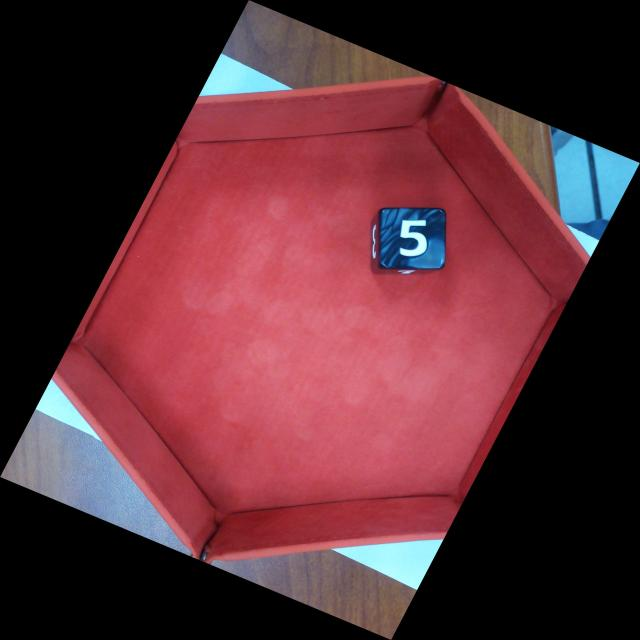dice: (383, 205, 447, 267)
